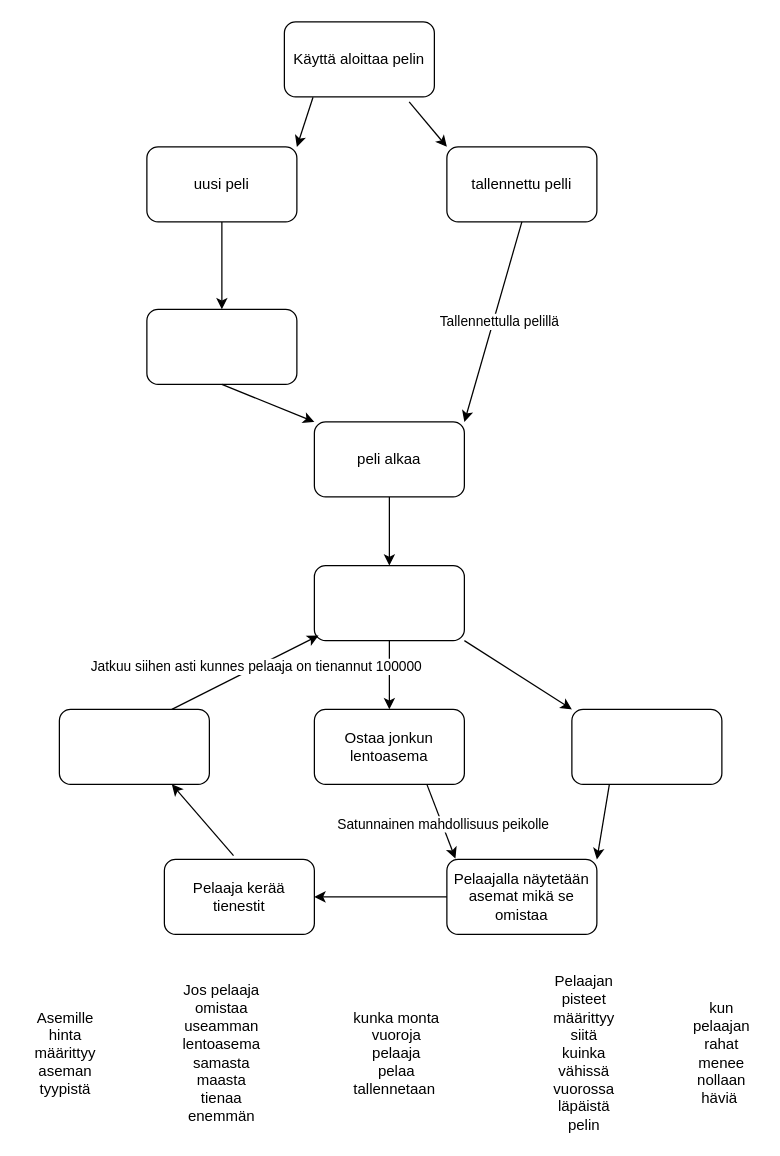
This 780x1156 diagram has some shape labels left out. The centre of each missing label's shape, as x and y in pixels:
nimimerkki: point 221,346
Pelaaja hylkää asemat: point 646,746
Pelaaja voi puhdistaa aseman maksusta: point 133,746
Pelaajalla tarjotaan viisi satunnaista lentoasemaa: point 388,602
